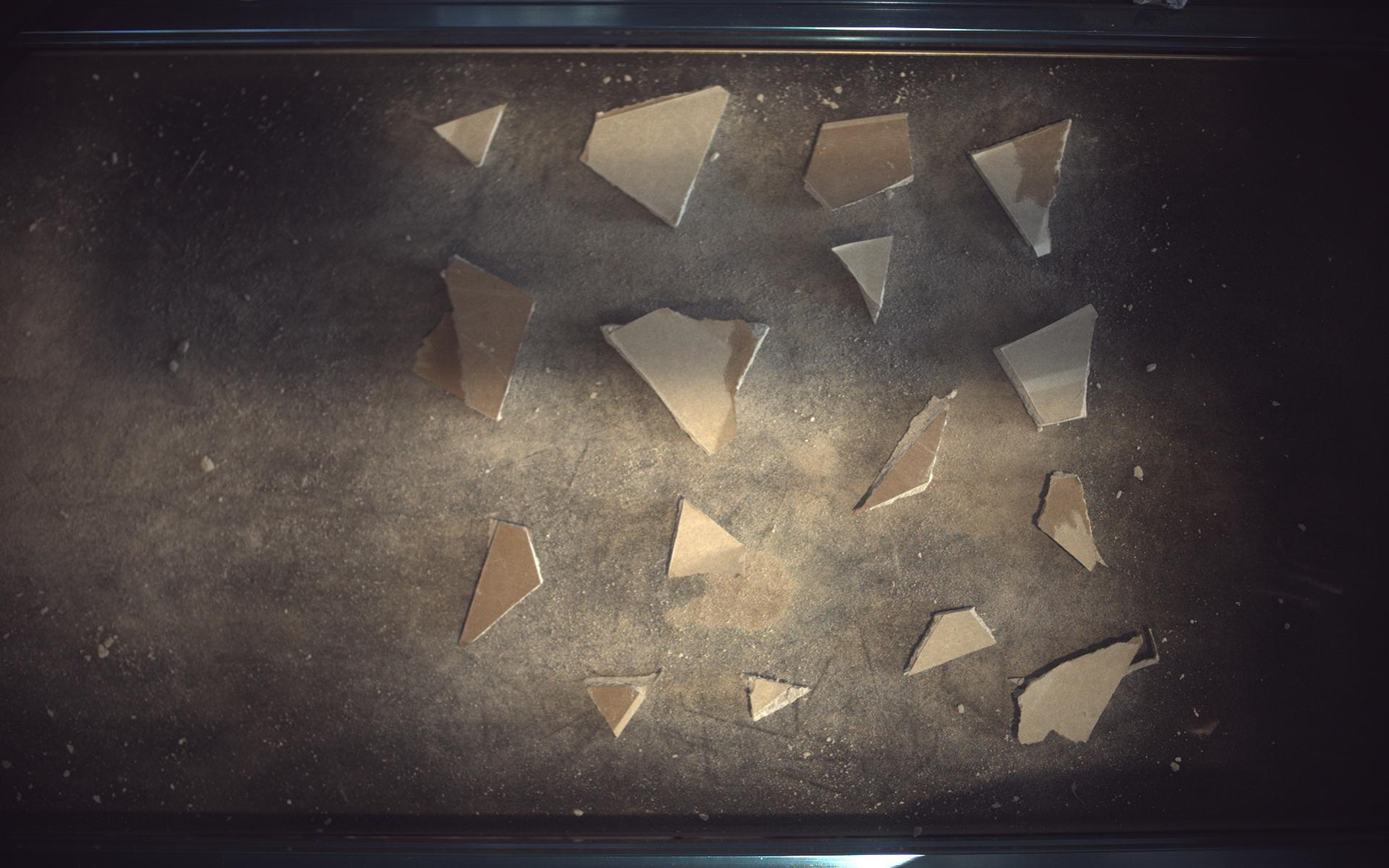gypsum_board: (602, 307, 770, 454), (581, 85, 730, 226), (414, 255, 535, 420), (1019, 630, 1162, 746), (972, 118, 1074, 256), (995, 305, 1100, 430), (857, 391, 959, 513), (805, 112, 915, 209), (459, 522, 543, 647), (1040, 472, 1108, 571), (668, 497, 747, 579), (907, 608, 998, 676), (834, 234, 895, 323), (585, 671, 662, 739), (434, 103, 506, 166), (747, 677, 812, 723)
